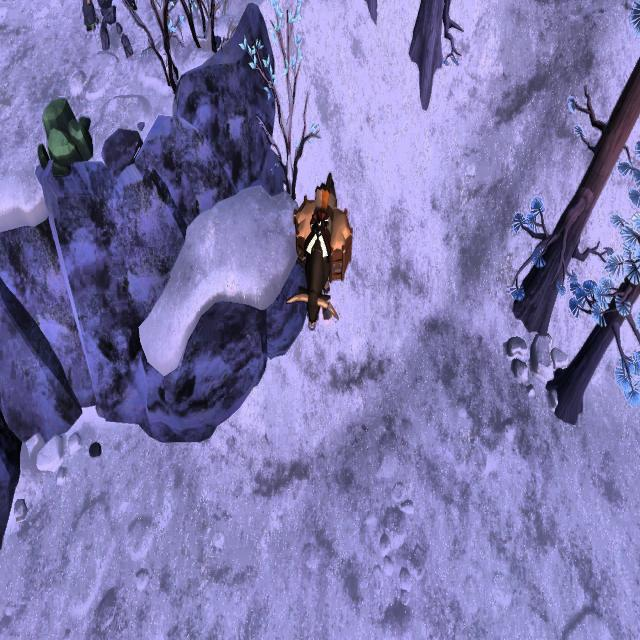rock_t3: (35, 91, 93, 184)
